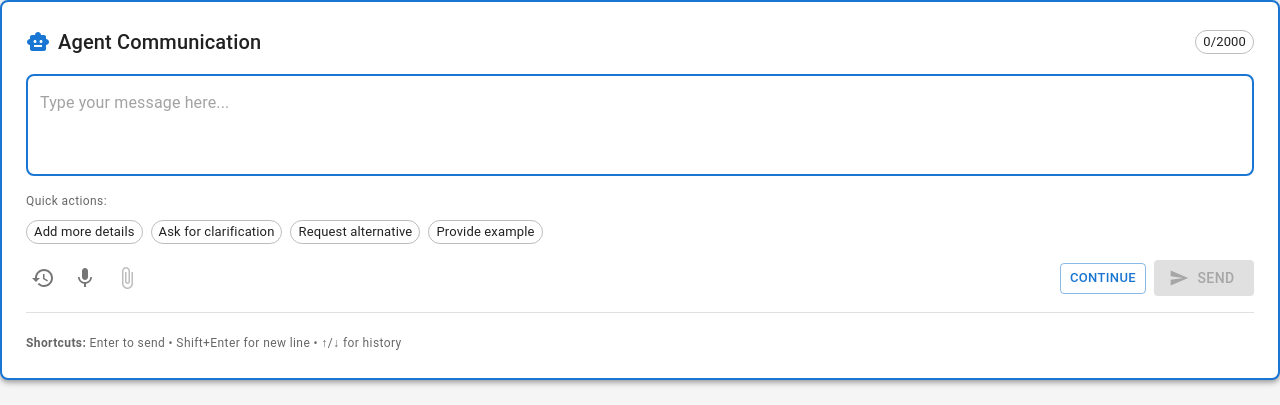
Test case: UserInputPanel › Input Functionality › updates input value when typing
Type "Hello world" into the text box with placeholder "Type your message here..." at {"x": 640, "y": 125}, box [40,90,1240,160]
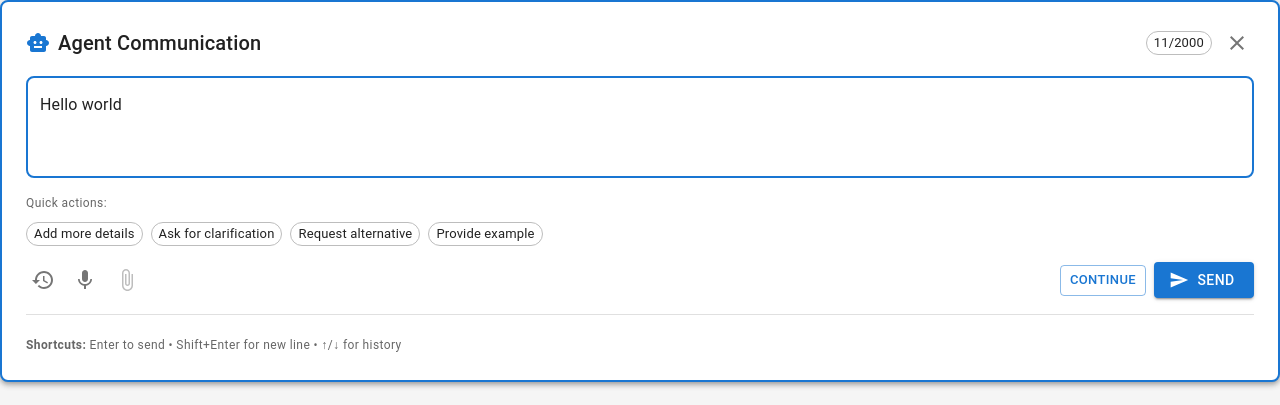
Result: the text "11/2000" is shown at [1154,35,1204,50]
